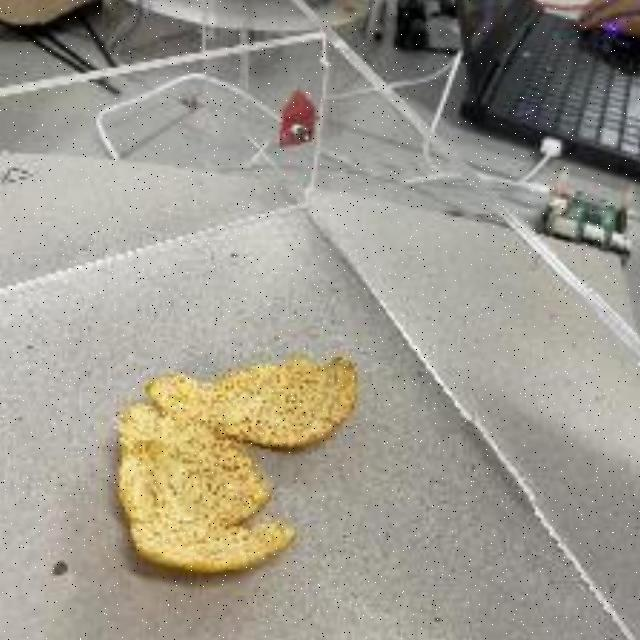orange-peel: (110, 348, 362, 576)
